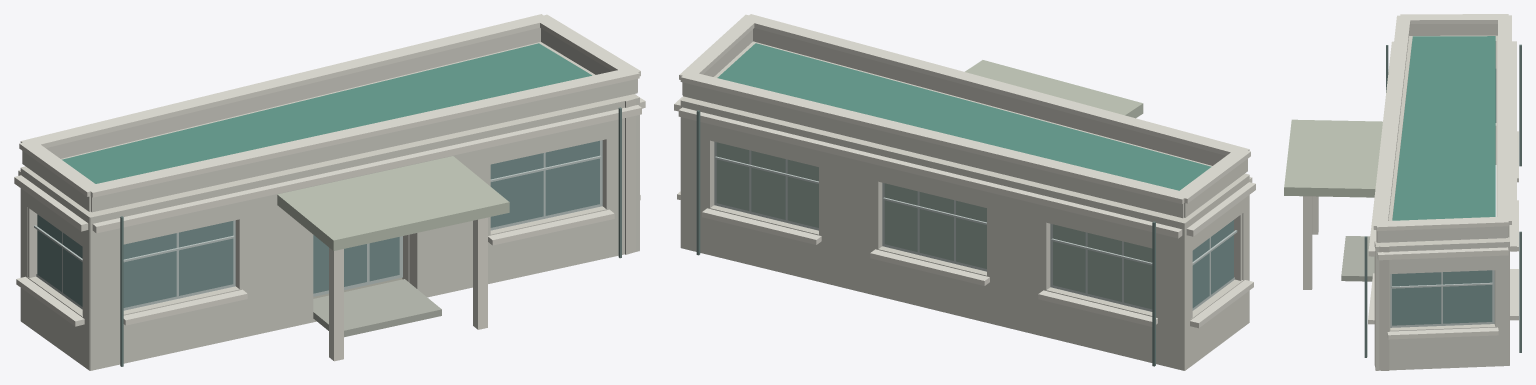
3 renders of one model, left to right at view 1: azimuth 30°, elevation 25°; view 2: azimuth 150°, elevation 25°; view 3: azimuth 270°, elevation 25°, orthographic. The views are drawn at different scales.
Visible parts, largest first — view 1: shop__wall, shop__trim, shop__roof, shop__glass, shop__entry, shop__threshold-3-6, shop__frame, shop__metal; view 2: shop__wall, shop__trim, shop__roof, shop__sideglass, shop__frame, shop__entry, shop__glass, shop__metal; view 3: shop__roof, shop__wall, shop__trim, shop__entry, shop__glass, shop__metal, shop__threshold-3-6, shop__frame.
Boxes of the visible parts, x1=… form: shop__wall: x1=20, y1=27, x2=639, y2=370; shop__trim: x1=14, y1=14, x2=645, y2=361; shop__roof: x1=62, y1=43, x2=591, y2=183; shop__glass: x1=37, y1=140, x2=599, y2=307; shop__entry: x1=277, y1=156, x2=509, y2=250; shop__threshold-3-6: x1=313, y1=279, x2=441, y2=337; shop__frame: x1=34, y1=140, x2=602, y2=310; shop__metal: x1=120, y1=107, x2=621, y2=366; shop__wall: x1=680, y1=28, x2=1249, y2=370; shop__trim: x1=674, y1=14, x2=1255, y2=328; shop__roof: x1=717, y1=43, x2=1211, y2=190; shop__sideglass: x1=716, y1=142, x2=1152, y2=309; shop__frame: x1=714, y1=141, x2=1237, y2=311; shop__entry: x1=965, y1=60, x2=1143, y2=118; shop__glass: x1=1192, y1=220, x2=1233, y2=307; shop__metal: x1=696, y1=110, x2=1155, y2=366; shop__roof: x1=1392, y1=36, x2=1495, y2=220; shop__wall: x1=1374, y1=24, x2=1509, y2=370; shop__trim: x1=1303, y1=14, x2=1518, y2=339; shop__entry: x1=1284, y1=119, x2=1382, y2=197; shop__glass: x1=1392, y1=69, x2=1496, y2=325; shop__metal: x1=1364, y1=44, x2=1521, y2=357; shop__threshold-3-6: x1=1341, y1=236, x2=1374, y2=281; shop__frame: x1=1390, y1=270, x2=1494, y2=327.
Size of the model in its own units: 14.22 by 4.38 by 6.53.
